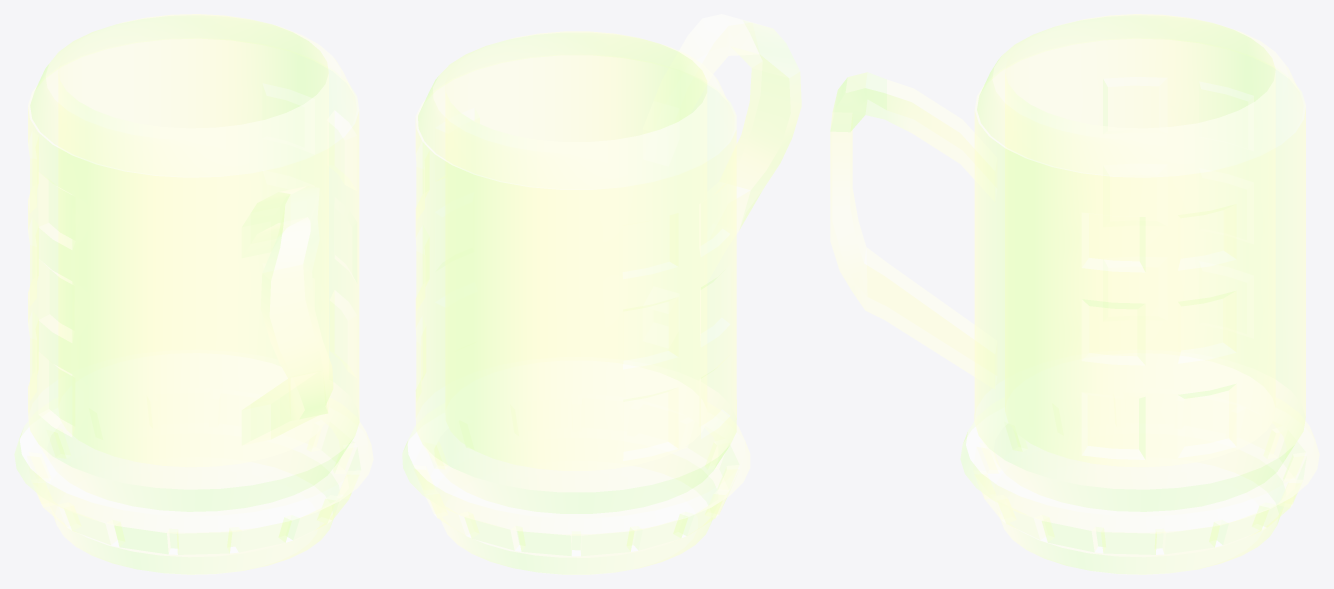
Rendered from Beer_mug_jade.fbx.
3 renders of one model, left to right at view 1: azimuth 30°, elevation 25°; view 2: azimuth 150°, elevation 25°; view 3: azimuth 270°, elevation 25°, orthographic. The views are drawn at different scales.
Parts seen in each view (by area): view 1: Cylinder; view 2: Cylinder; view 3: Cylinder.
Part boxes in pixels (box(x1,y1,x2,y2)): Cylinder: box(14, 14, 373, 574); Cylinder: box(402, 14, 801, 574); Cylinder: box(830, 14, 1319, 574).
Bounding box in the file's own units: 289 × 400 × 394.
